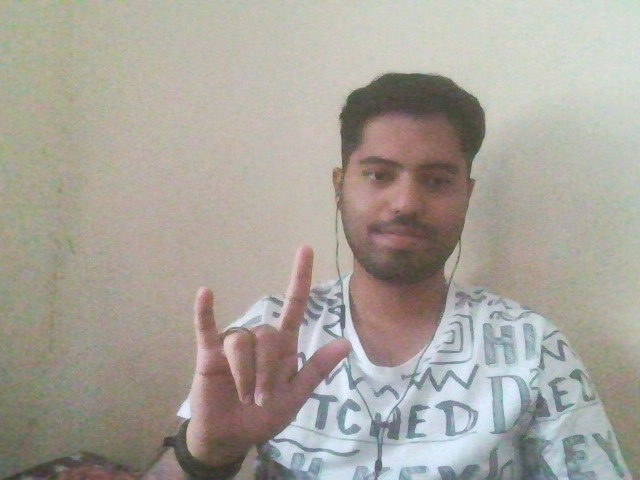IloveYou: (166, 241, 358, 443)
